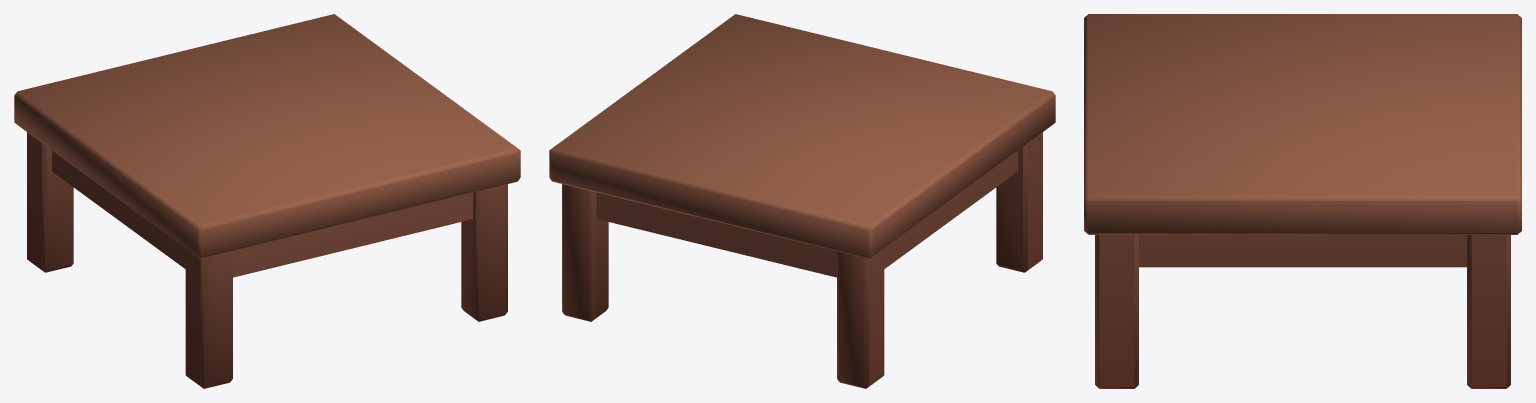
The model's file is K_table_medium.glb.
The picture shows the model from 3 angles, left to right: view 1: azimuth 30°, elevation 25°; view 2: azimuth 150°, elevation 25°; view 3: azimuth 270°, elevation 25°; orthographic projection. The views are drawn at different scales.
Visible parts, largest first — view 1: table_medium; view 2: table_medium; view 3: table_medium.
Part boxes in pixels (x1,y1,x2,y2): table_medium: (14,14,520,388); table_medium: (549,14,1055,388); table_medium: (1084,14,1521,388).
Size of the model in its own units: 2 by 1 by 2.
